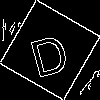D: (25, 25, 72, 78)
